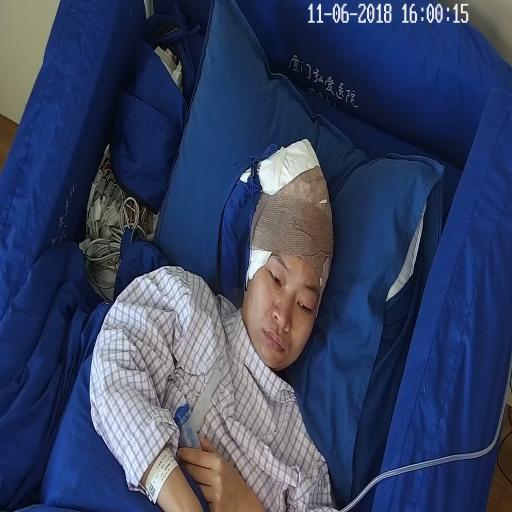Seizure: (238, 139, 338, 370)
